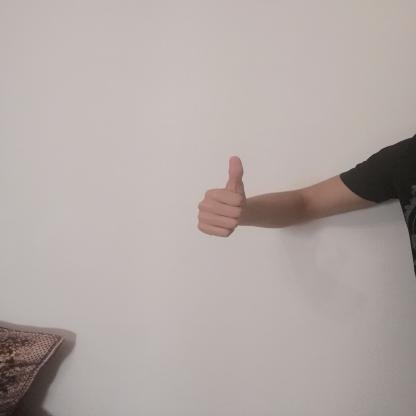ALIF: (181, 147, 269, 244)
